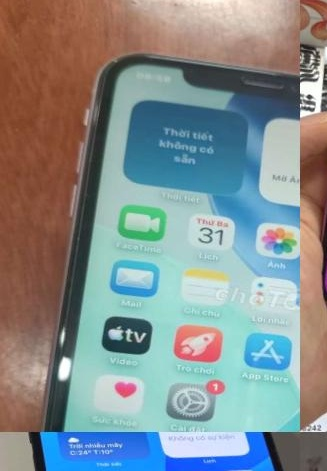scratch: (300, 432, 327, 471)
